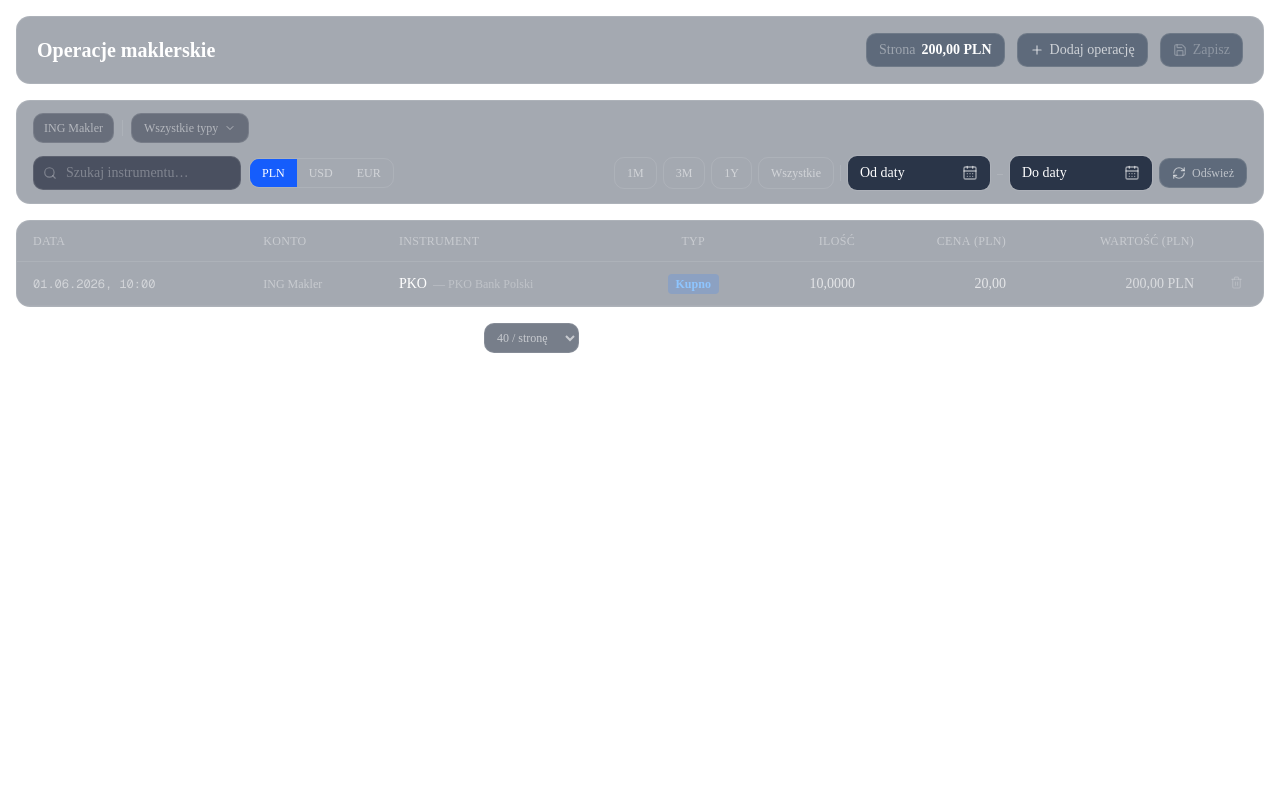
Test: BrokerageEventsPage › deletes a brokerage event only after confirmation and reloads the page
Expected: the text "PKO" is shown, x1=399 y1=276 x2=427 y2=290
What coordinates should you click on to do the following:
click the button titled "Usuń operację"
I would click on:
 (1236, 282)
Its box is x1=1226 y1=272 x2=1247 y2=293.
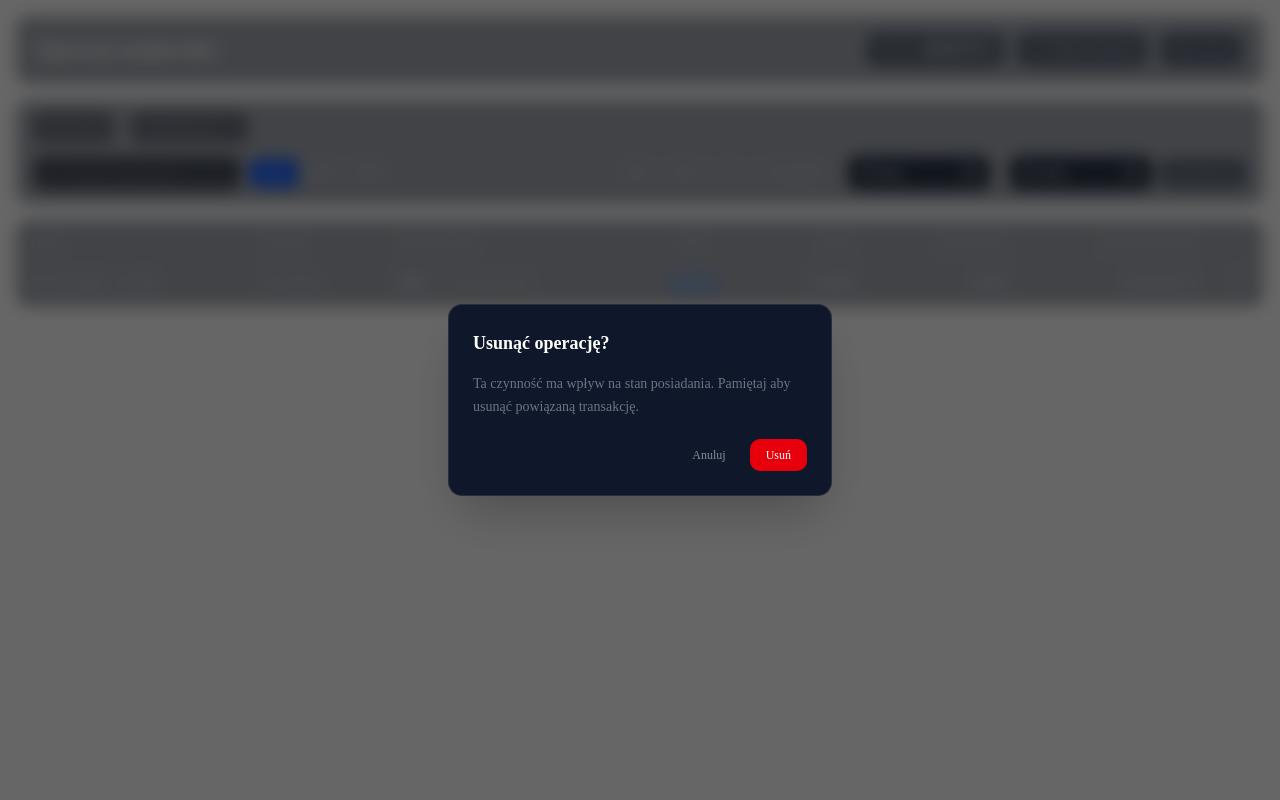
Expected: the heading "Usunąć operację?" is shown, x1=473 y1=333 x2=610 y2=353
What coordinates should you click on to do the following:
click the button "Usuń"
I would click on:
 (778, 455)
Its box is x1=750 y1=439 x2=807 y2=471.
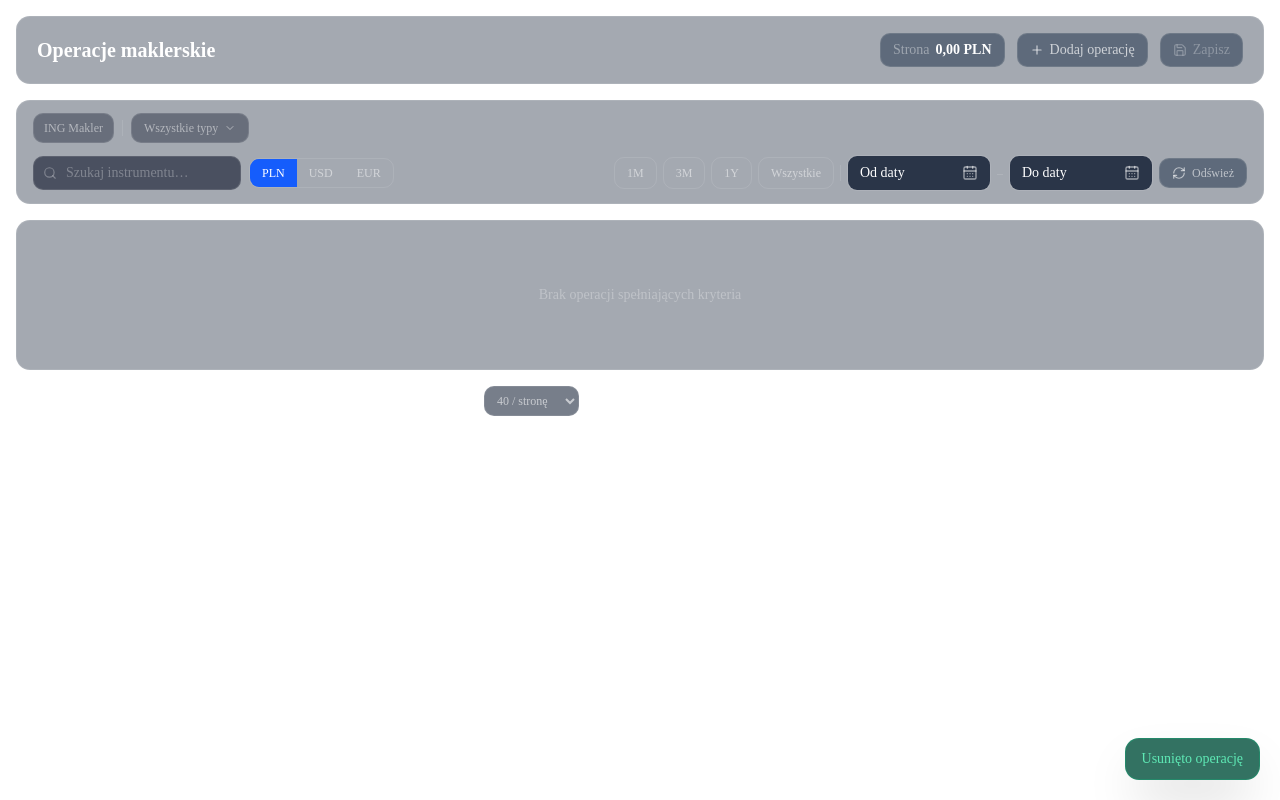
Expected: the text "Usunięto operację" is shown, x1=1124 y1=738 x2=1260 y2=780
